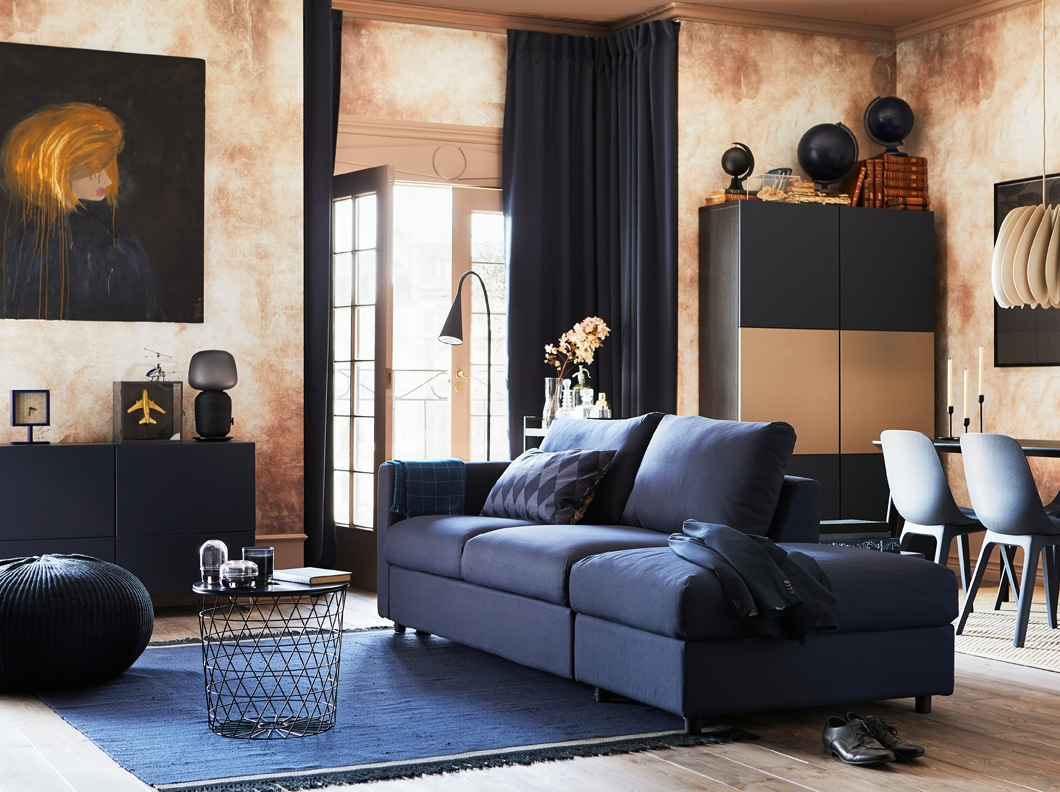kursi: (870, 426, 1006, 623), (958, 434, 1060, 650)
lampu: (442, 267, 501, 459)
meja: (189, 566, 346, 744)
sova: (375, 416, 960, 734)
tanaman: (540, 317, 605, 423)
